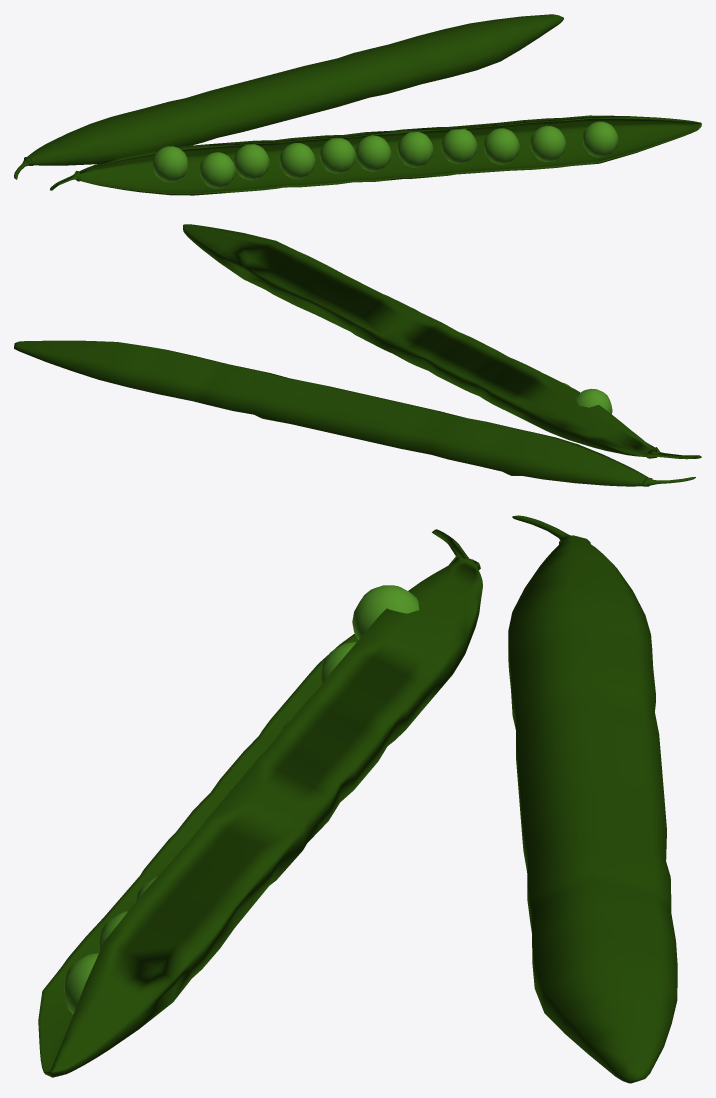
Rendered from pea.fbx.
3 views of the same model, one above another, from view 1: azimuth 30°, elevation 25°; view 2: azimuth 150°, elevation 25°; view 3: azimuth 270°, elevation 25° (orthographic). The views are drawn at different scales.
Parts seen in each view (by area): view 1: pea; view 2: pea; view 3: pea.
Boxes of the visible parts, x1=… form: pea: x1=14, y1=14, x2=701, y2=195; pea: x1=14, y1=224, x2=701, y2=486; pea: x1=38, y1=515, x2=677, y2=1083.
Bounding box in the file's own units: 30.4 × 2.2 × 14.6.
